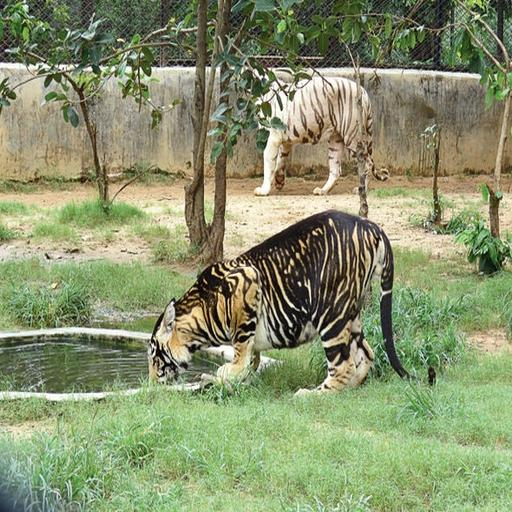Tiger: (142, 207, 444, 405), (230, 59, 398, 202)
